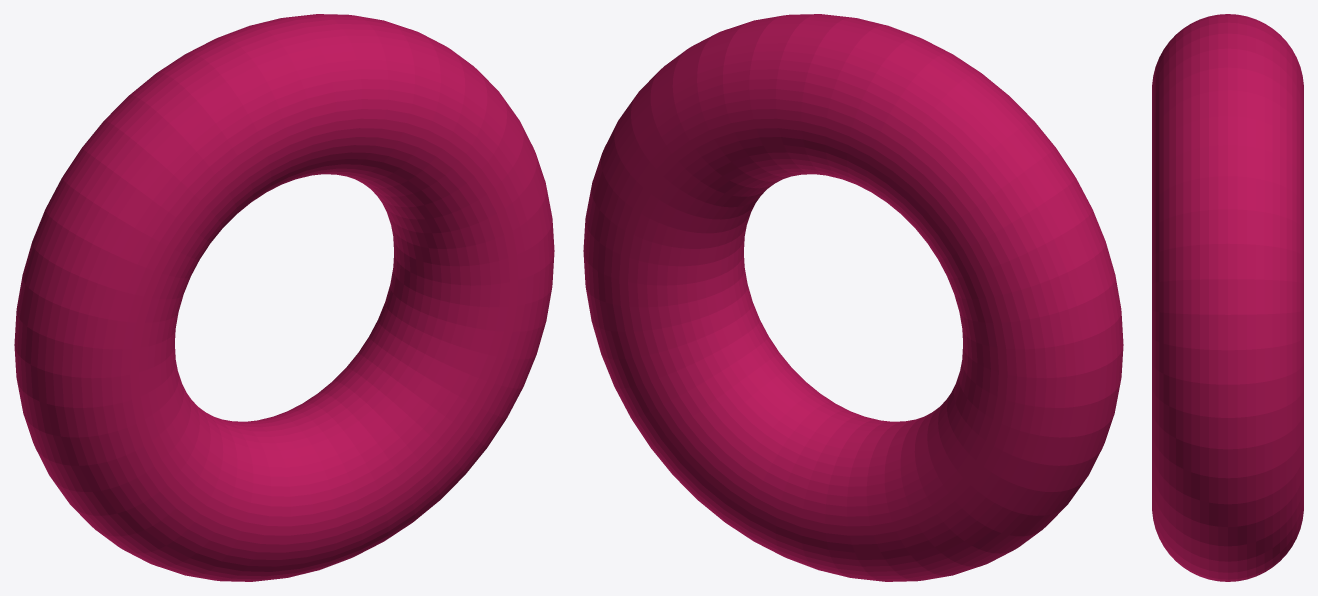
The picture shows the model from 3 angles, left to right: view 1: azimuth 30°, elevation 25°; view 2: azimuth 150°, elevation 25°; view 3: azimuth 270°, elevation 25°; orthographic projection. The views are drawn at different scales.
Visible parts, largest first — view 1: world; view 2: world; view 3: world.
Part boxes in pixels (x1,y1,x2,y2): world: [14, 14, 554, 581]; world: [583, 14, 1123, 581]; world: [1152, 14, 1303, 581].
Bounding box in the file's own units: 37.33 × 37.26 × 9.98.
